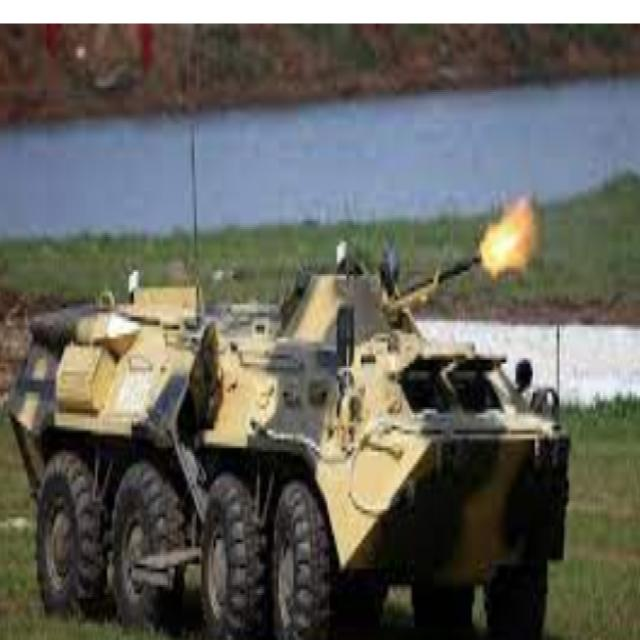MIL_APC: (4, 246, 611, 640)
